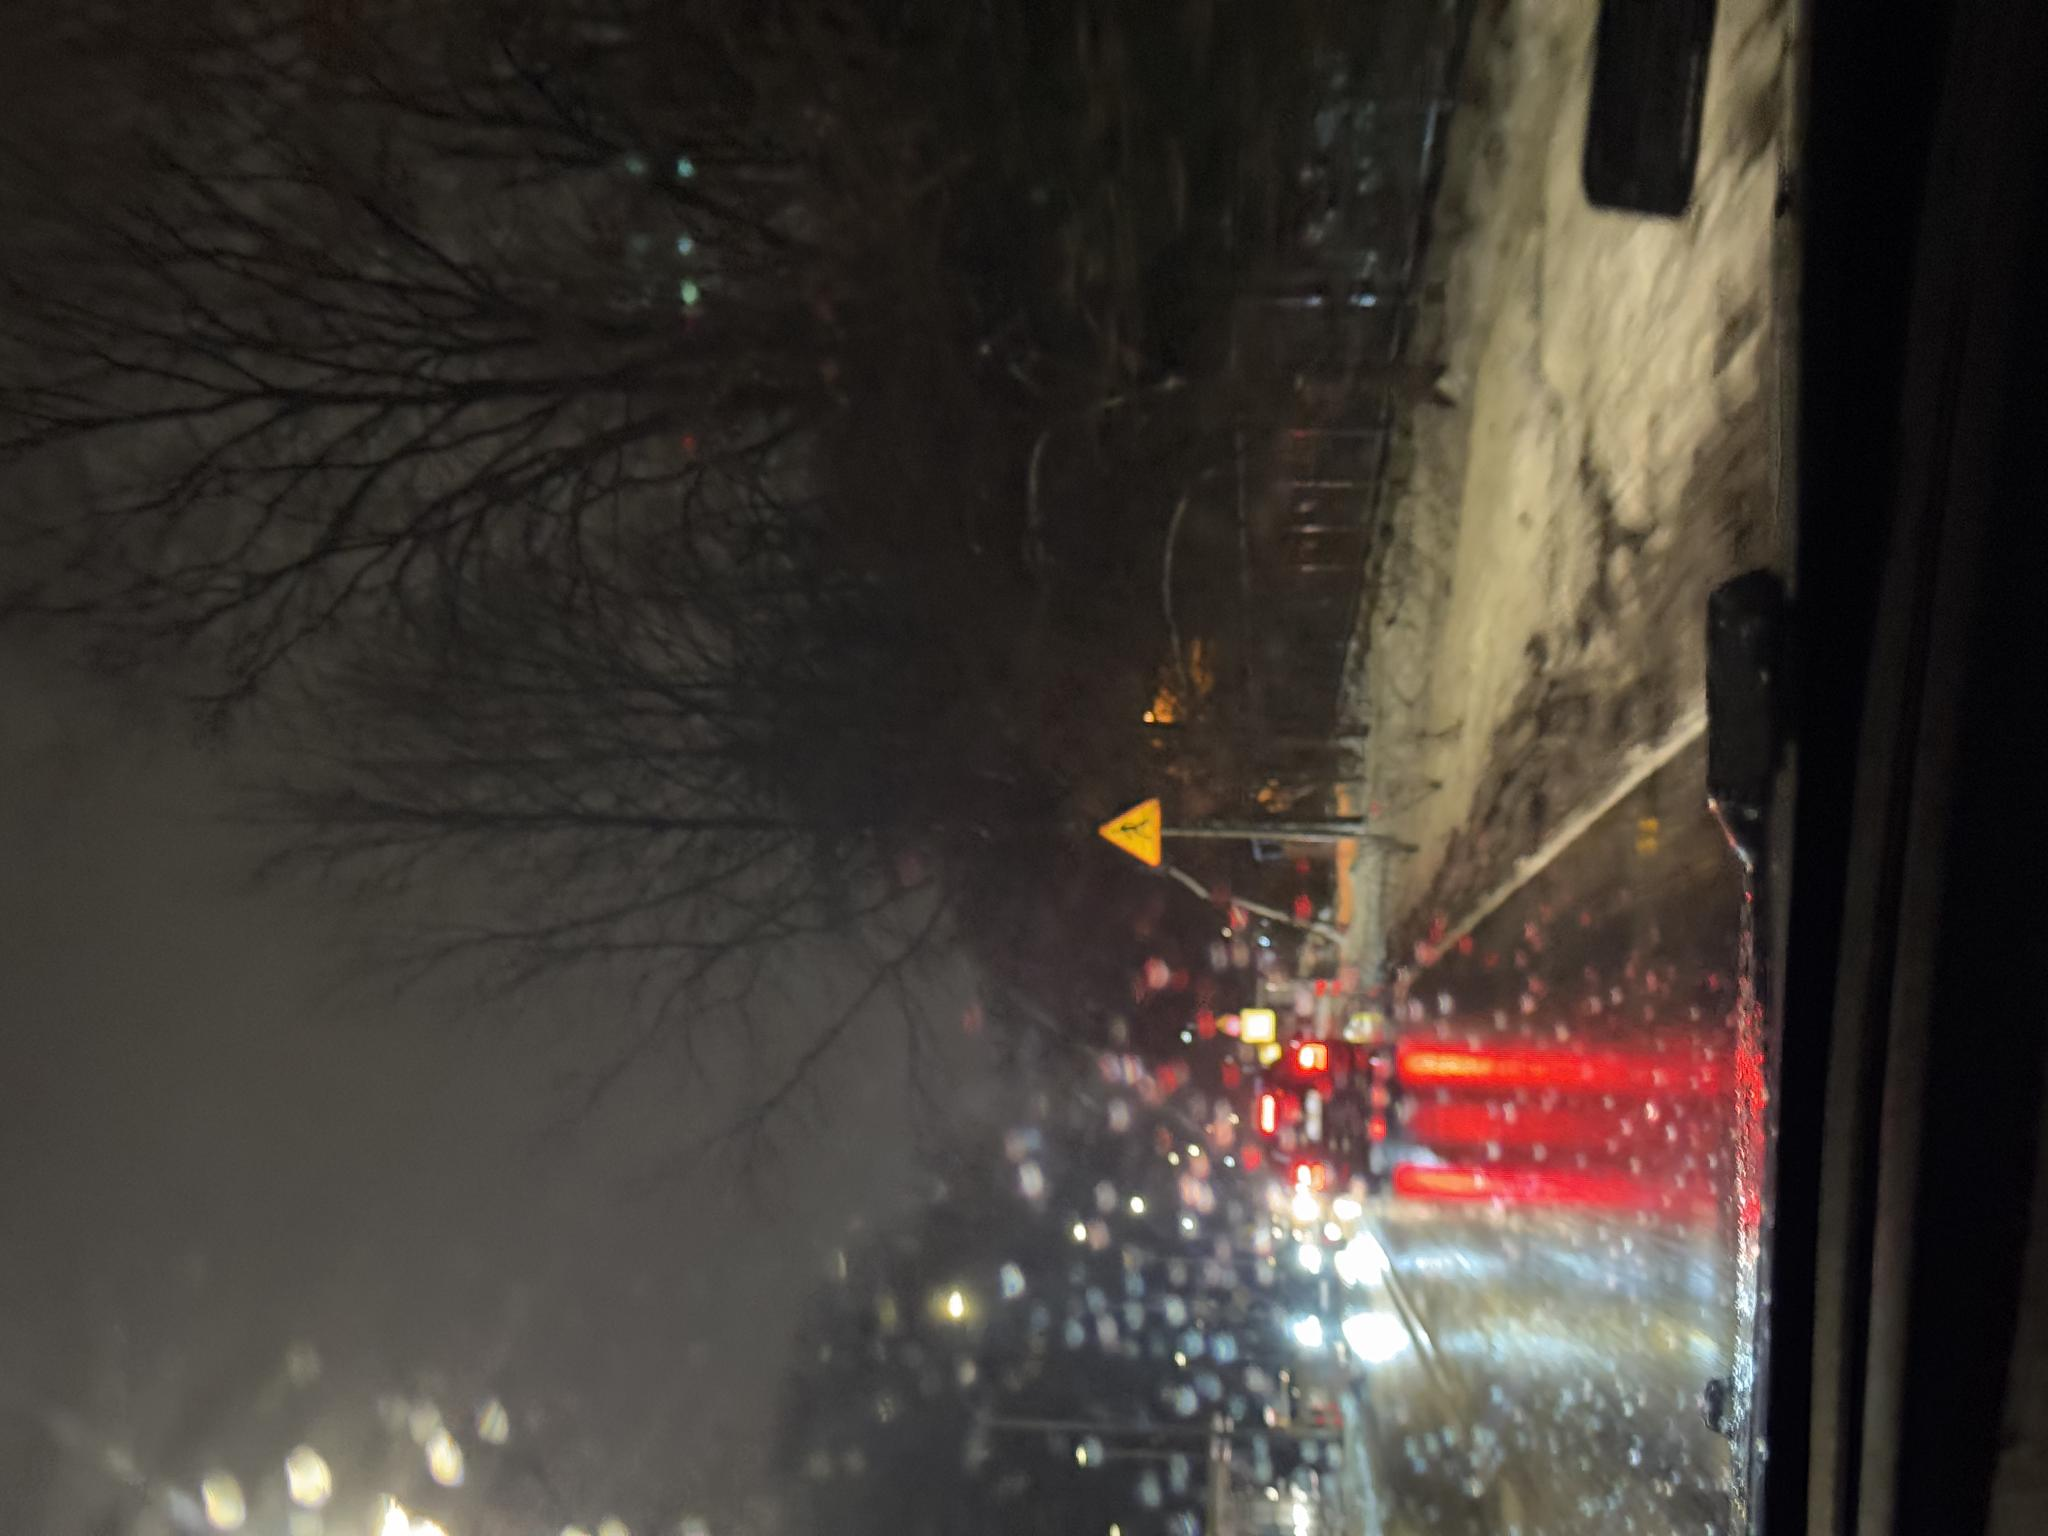warning: (669, 1097, 739, 1162)
